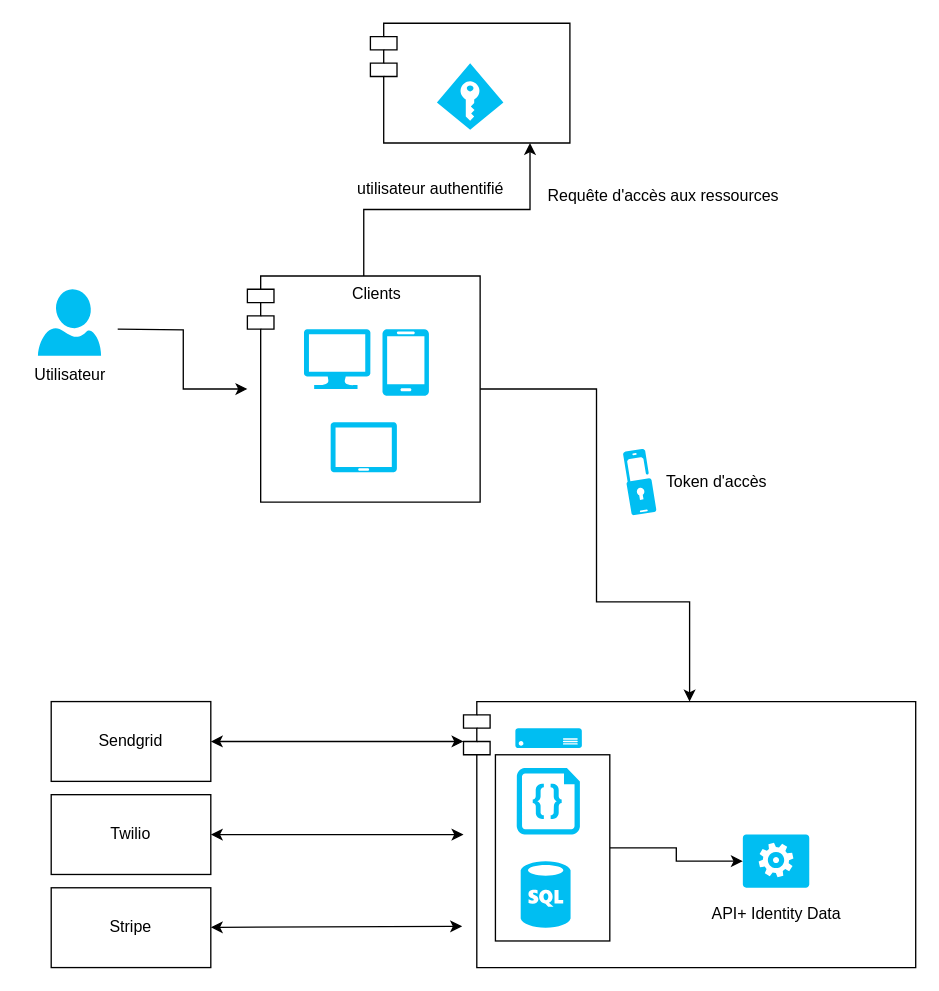
Image size: 939x991. Some labels were removed from this diagram. The box of each missing label's shape, as (x1, y1, x2, y2) in pixels:
IdentityServer: (369, 22, 570, 143)
Ressources: (462, 700, 916, 968)
